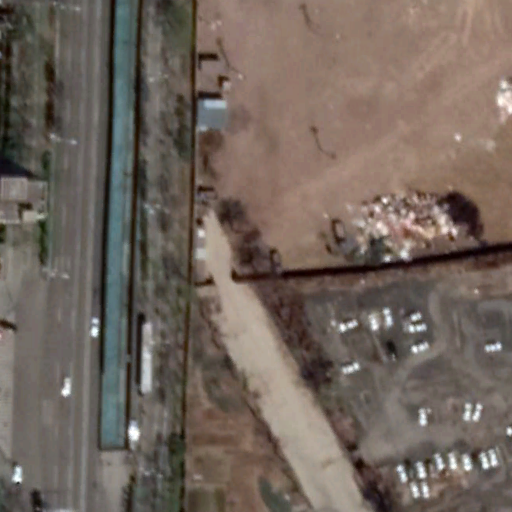msw: (358, 190, 465, 263)
